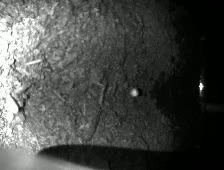corn: (130, 88, 138, 97)
